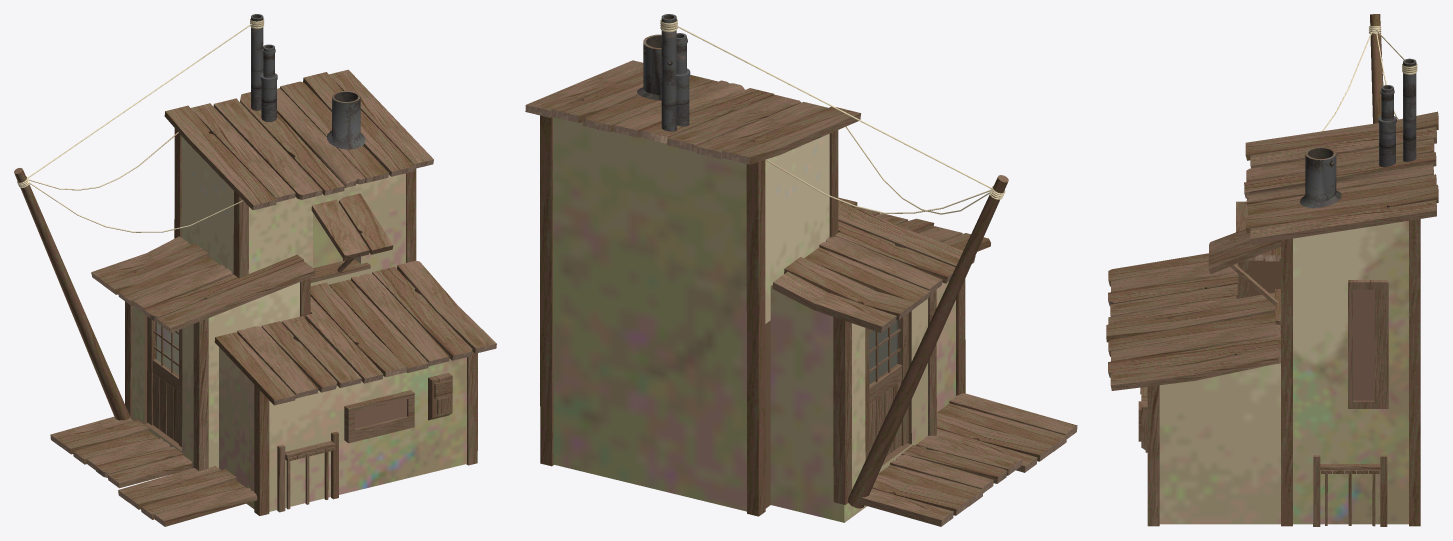
File: title-shack.glb
The picture shows the model from 3 angles, left to right: view 1: azimuth 30°, elevation 25°; view 2: azimuth 150°, elevation 25°; view 3: azimuth 270°, elevation 25°; orthographic projection. The views are drawn at different scales.
Visible parts, largest first — view 1: shack1; view 2: shack1; view 3: shack1.
Part boxes in pixels (x1,y1,x2,y2): shack1: (14, 14, 496, 526); shack1: (525, 14, 1077, 526); shack1: (1106, 14, 1438, 526).
Size of the model in its own units: 3.24 by 3.25 by 2.38.
3 materials, 1 textured.
